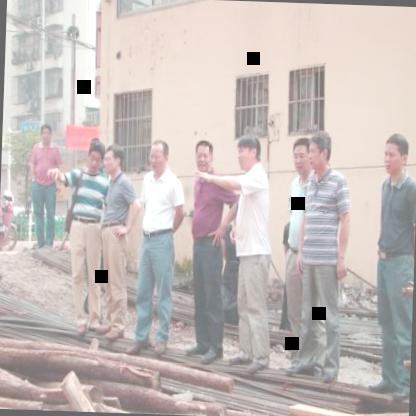head: (380, 130, 411, 179), (232, 129, 264, 174), (306, 126, 334, 176), (290, 134, 316, 180), (190, 134, 218, 176), (146, 136, 174, 176), (84, 138, 106, 176), (104, 144, 126, 181), (40, 119, 54, 146)
